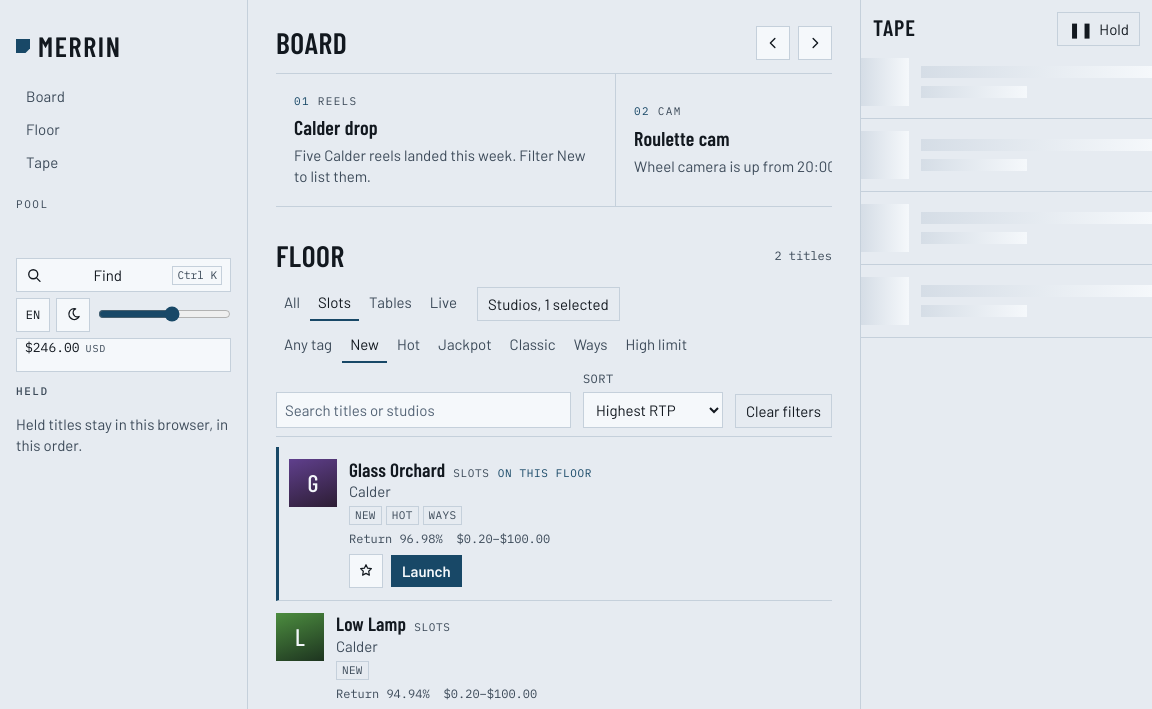
Test: lobby › opens the deep link and clears it back to the full floor
Expected: the text "2 titles" is shown, [774, 248, 832, 264]
Expected: the dropdown labelled "Sort" shows "Highest RTP", [583, 392, 723, 428]
Click the button "Clear filters" at (783, 411), box [735, 394, 832, 428]
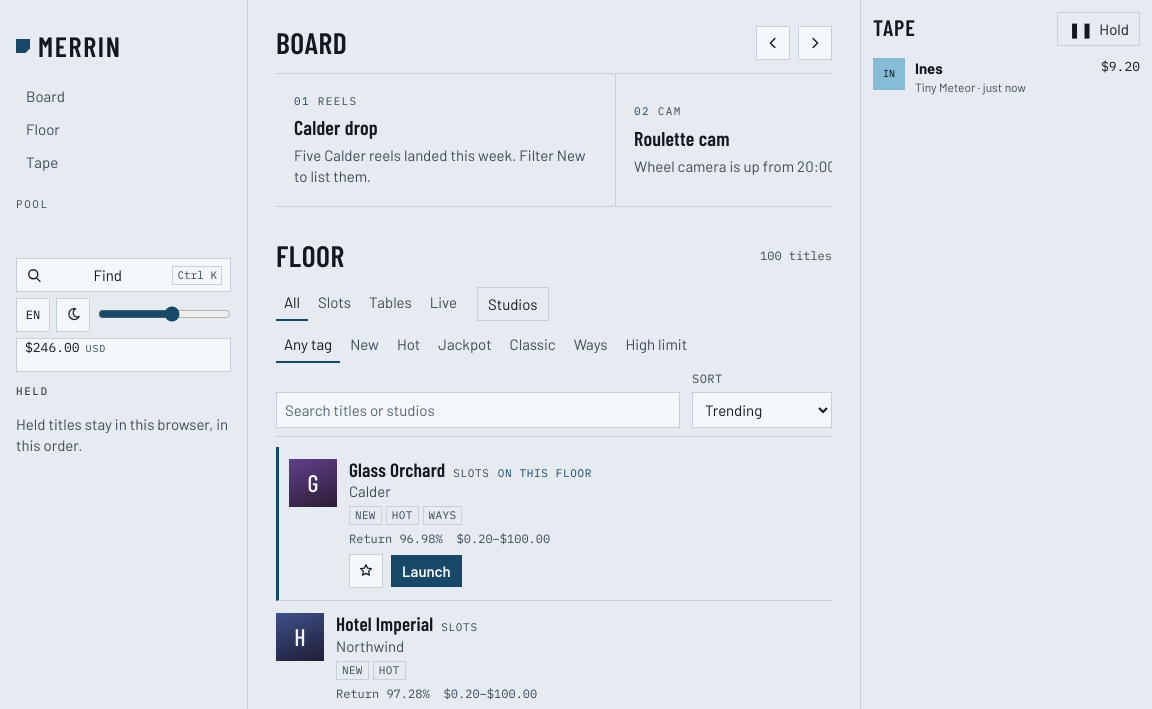
Now the text "100 titles" is shown, box [760, 248, 832, 264]
